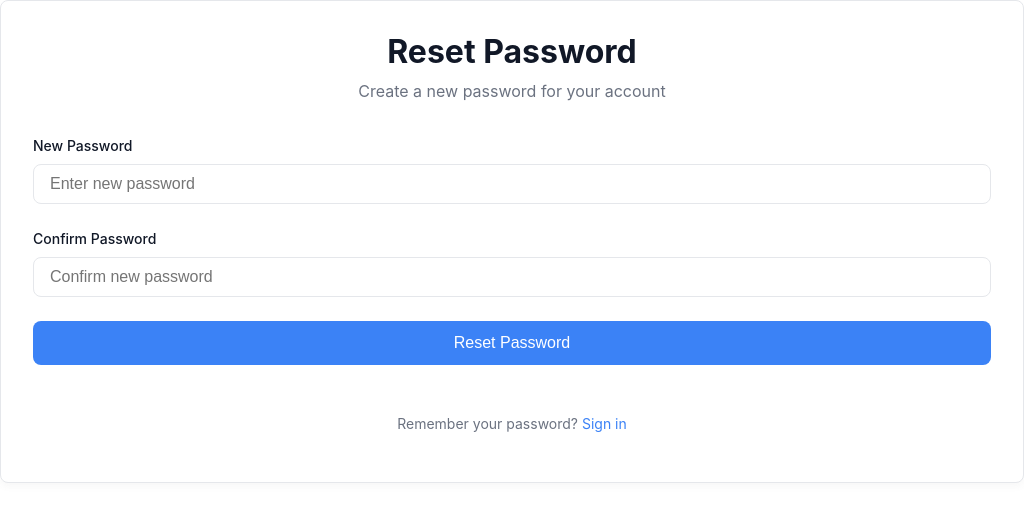
Test: ChangePasswordForm › shows password mismatch error if passwords do not match on submit
In the password field labelled "New Password": (512, 184) [33,164,991,204], type "longenough"
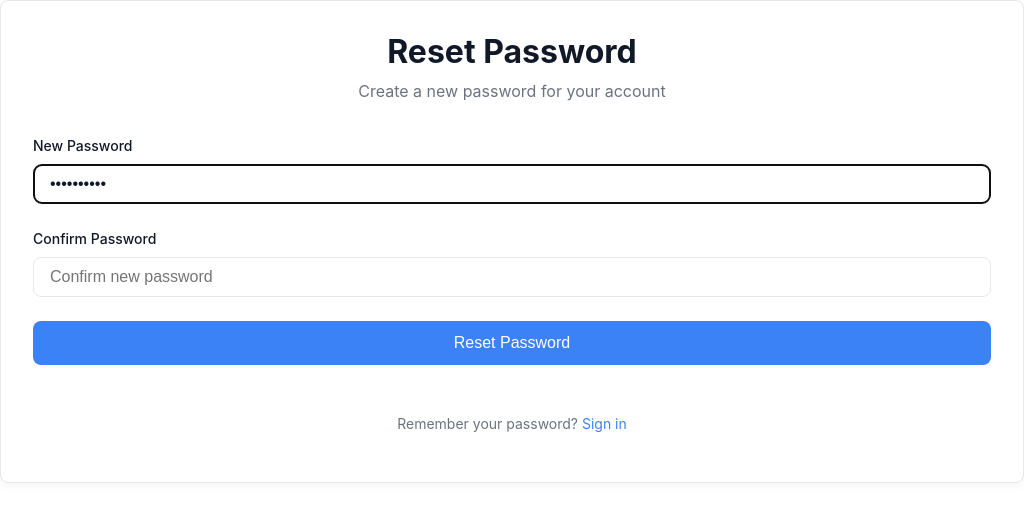
In the password field labelled "Confirm Password": (512, 277) [33,257,991,297], type "mismatch"
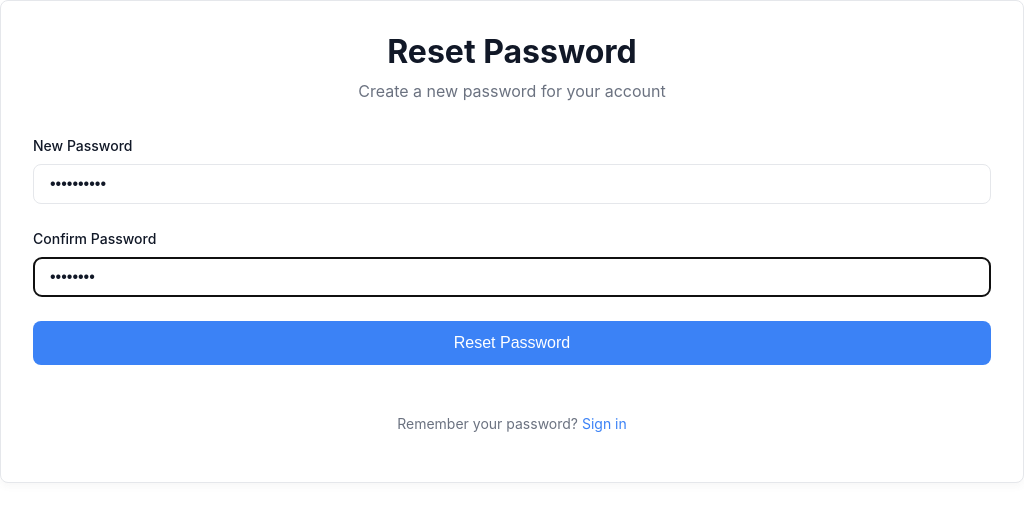
Click the button "Reset Password": (512, 343) [33,321,991,365]
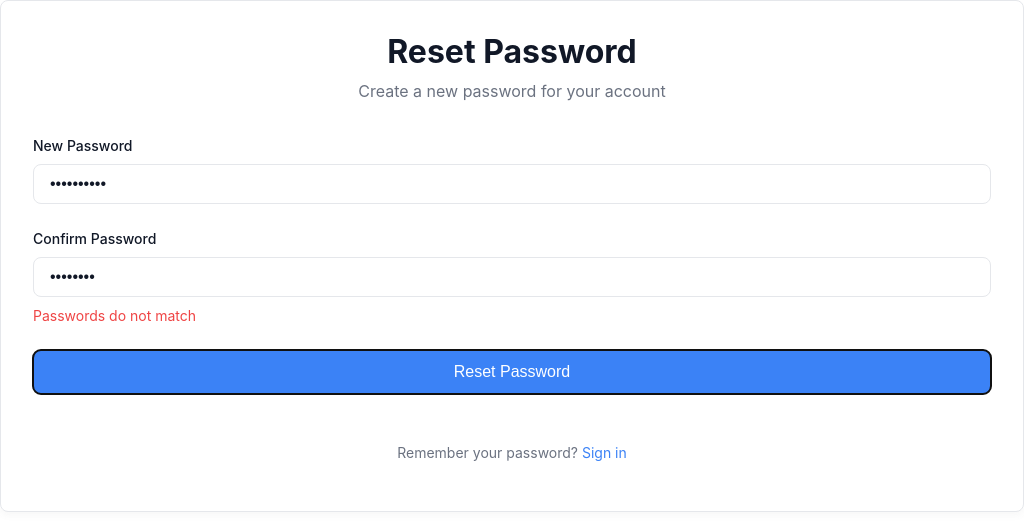
Expected: the button "Reset Password" is enabled, [33,350,991,394]
Expected: the text "Passwords do not match" is shown, [33,307,196,324]
